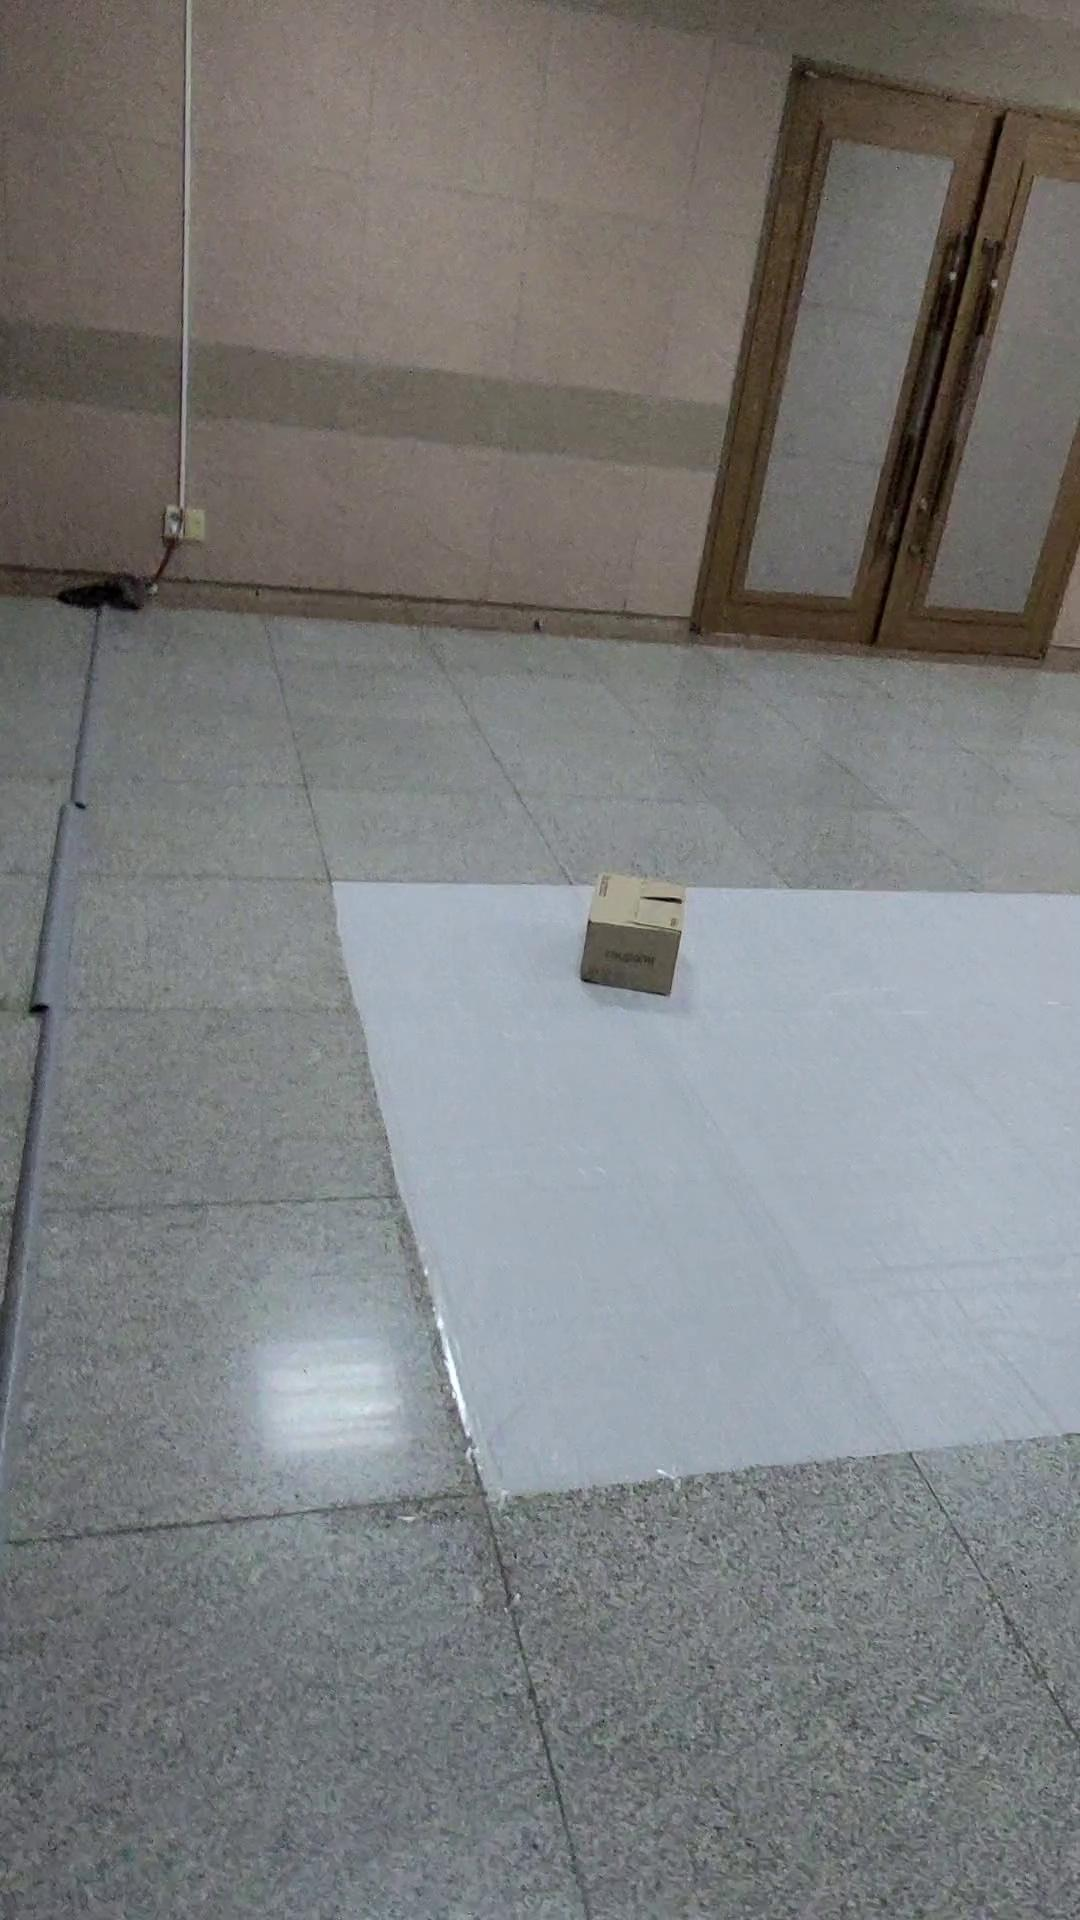Box: (541, 833, 702, 1035)
